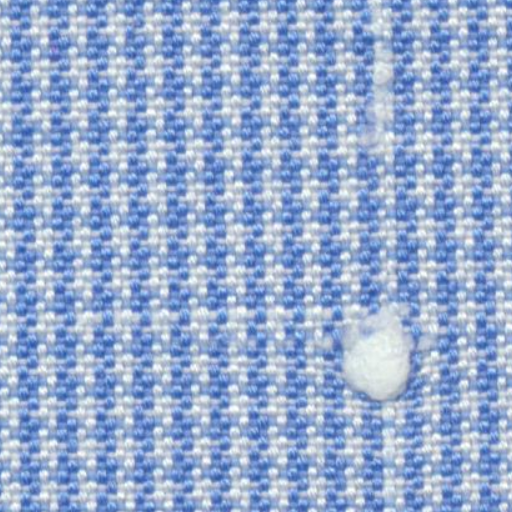MianQiu: (310, 290, 436, 414)
